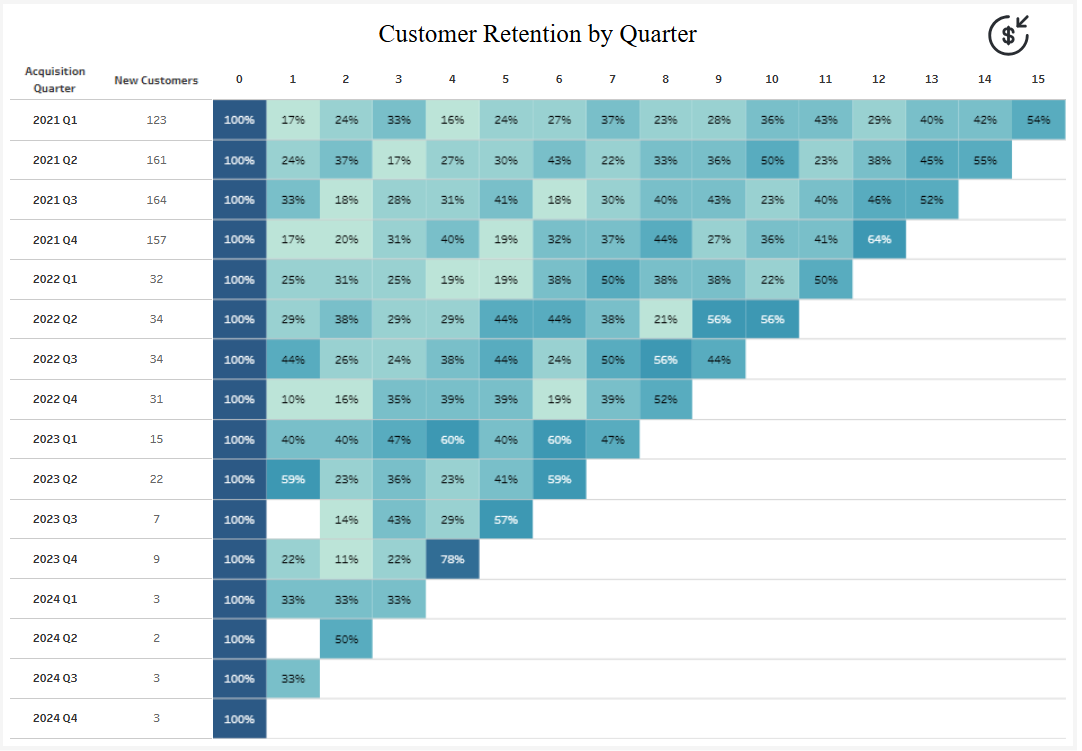

The dashboard page shown, as its layout file describes it:
{"tool":"tableau","page":{"name":"Retention Rate","canvas":[1150,800],"ordinal":1},"visuals":[{"type":"worksheet","title":"retention rate","mark":"Square","rows":["Calculation_965459180654440448","Calculation_965459180655697922"],"cols":["Calculation_965459180654964737"],"box":[0,0,1150,800]},{"type":"dashboard-object","box":[1040,14,74,48]}]}

Visuals, with their boxes in screenshot pixels (x1, y1, x2, y2), scaled from the page's 1150x800 canvas onto the 1082x751 screenshot:
"retention rate" worksheet (Square marks): region(0, 0, 1081, 750)
dashboard-object: region(979, 13, 1048, 58)
